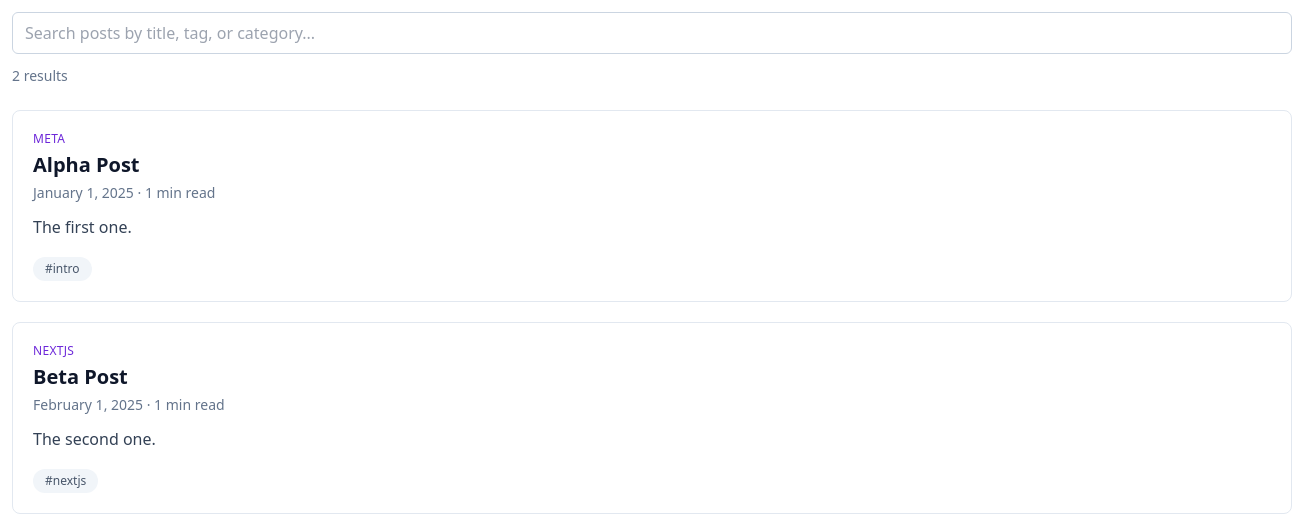
it: <PostSearch> › filters posts as the user types
Type "alpha" into the search field with placeholder "Search posts by title, tag, or category..." at (652, 33), box [12, 12, 1292, 54]
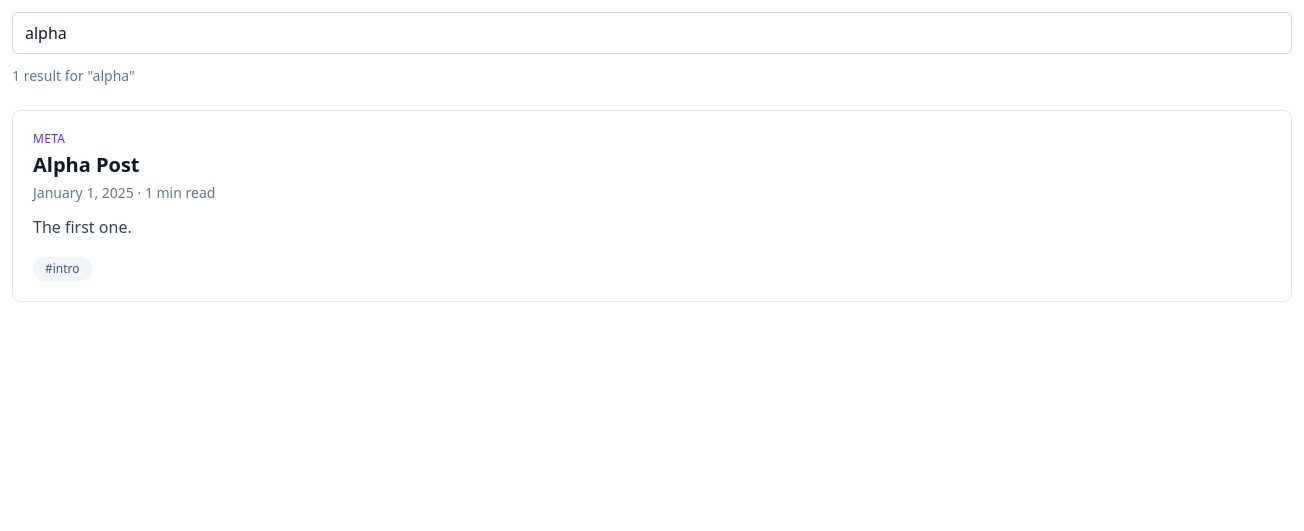
expect the link "Alpha Post" is shown: met, box [33, 151, 140, 178]
expect the link "Beta Post" is gone: met
expect the message shows "1 result": met, box [12, 66, 135, 85]
